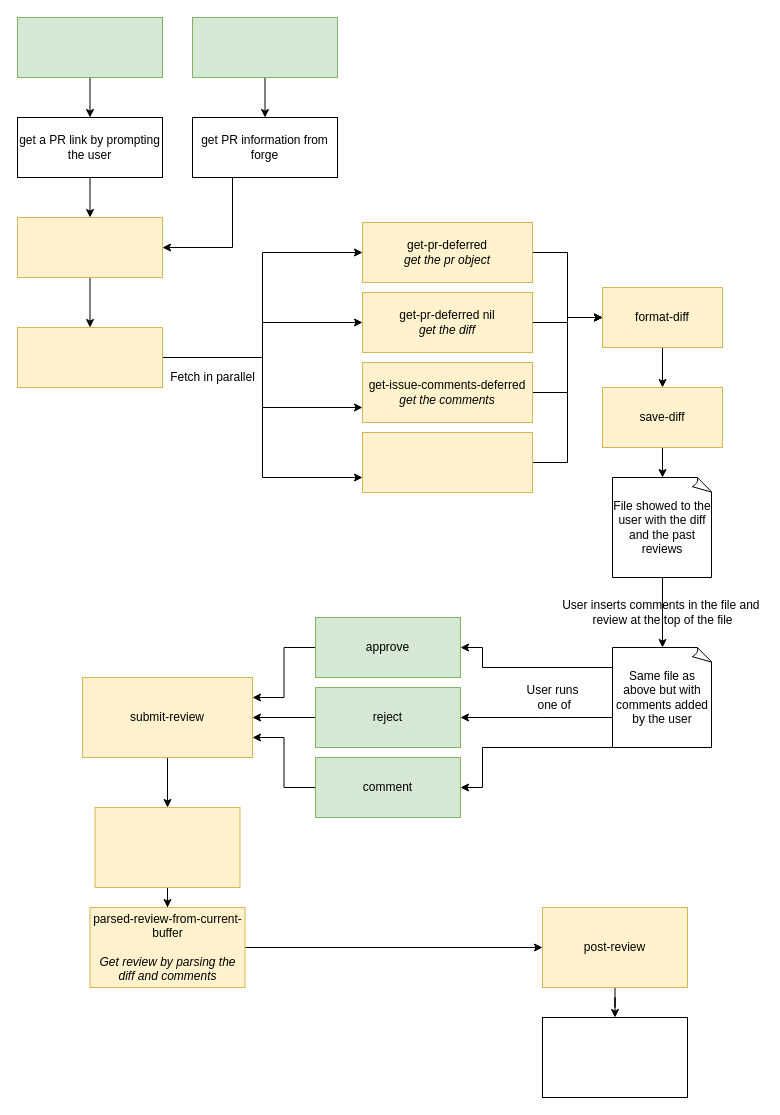
This 780x1115 diagram has some shape labels left out. The centre of each missing label's shape, as x and y in pixels:
get-pr-from-fname pr info and commit from filename: (x=167, y=847)
get-reviews-deferred get the other reviews: (x=447, y=462)
pr-from-url parse owner/repo/num: (x=89, y=247)
print confirmation: (x=615, y=1057)
review forge-pr-at-point: (x=265, y=47)
review start: (x=89, y=47)
start-internal: (x=89, y=357)
